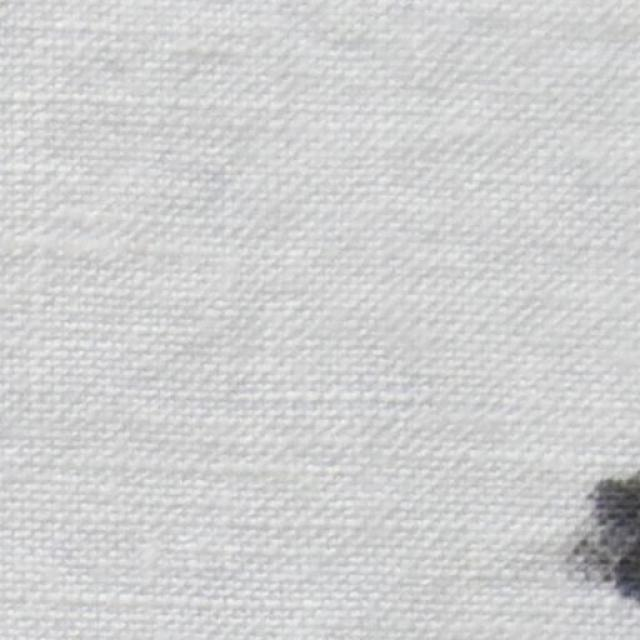Stain: (568, 466, 640, 605)
